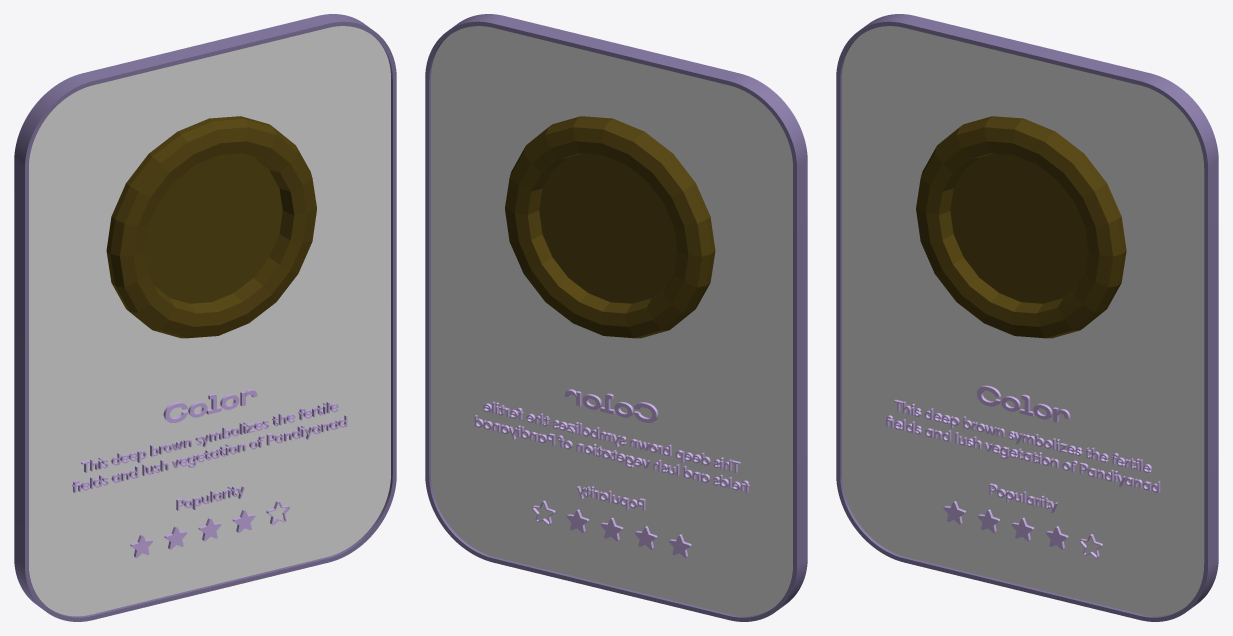
The model's file is pandiColor.glb.
The picture shows the model from 3 angles, left to right: view 1: azimuth 30°, elevation 25°; view 2: azimuth 150°, elevation 25°; view 3: azimuth 330°, elevation 25°; orthographic projection.
Visible parts, largest first — view 1: Mesh_2713.001, Coin, Mesh_2369.002, Mesh_2280.002, Mesh_2659.001, Mesh_1402.002; view 2: Mesh_2713.001, Coin, Mesh_2369.002, Mesh_2280.002, Mesh_2659.001, Mesh_1402.002; view 3: Mesh_2713.001, Coin, Mesh_2369.002, Mesh_2280.002, Mesh_2659.001, Mesh_1402.002.
Boxes of the visible parts, x1,y1,x2,y2 form: Mesh_2713.001: (29, 26, 390, 616); Coin: (106, 116, 316, 338); Mesh_2369.002: (14, 14, 396, 621); Mesh_2280.002: (72, 401, 347, 510); Mesh_2659.001: (130, 500, 289, 557); Mesh_1402.002: (163, 389, 257, 422); Mesh_2713.001: (431, 26, 792, 616); Coin: (505, 116, 715, 338); Mesh_2369.002: (425, 14, 807, 621); Mesh_2280.002: (474, 401, 749, 510); Mesh_2659.001: (532, 500, 691, 557); Mesh_1402.002: (564, 389, 658, 422); Mesh_2713.001: (842, 26, 1204, 616); Coin: (916, 116, 1126, 338); Mesh_2369.002: (836, 14, 1218, 621); Mesh_2280.002: (885, 399, 1160, 513); Mesh_2659.001: (943, 501, 1102, 558); Mesh_1402.002: (977, 385, 1070, 422).
Size of the model in its own units: 9.06 by 12.55 by 1.25.
